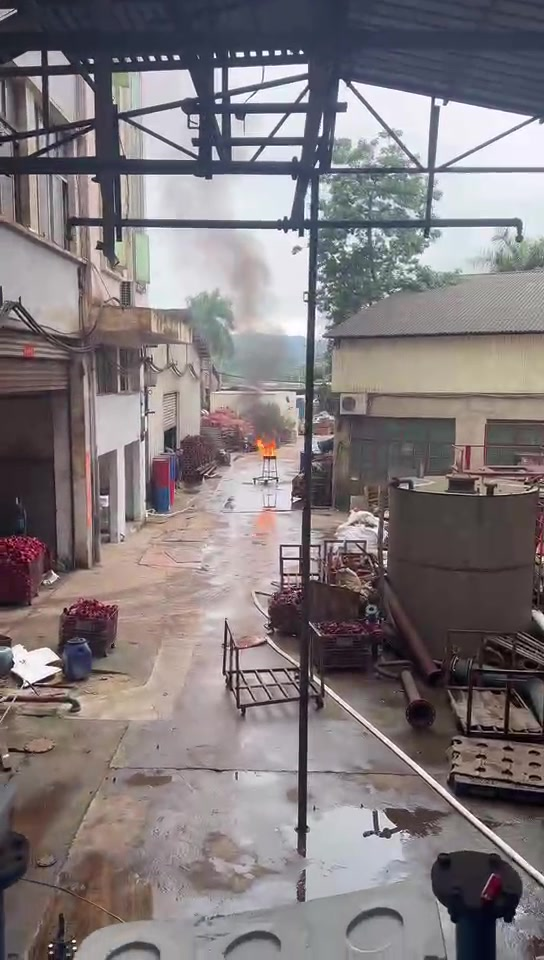fire: (256, 436, 276, 455)
